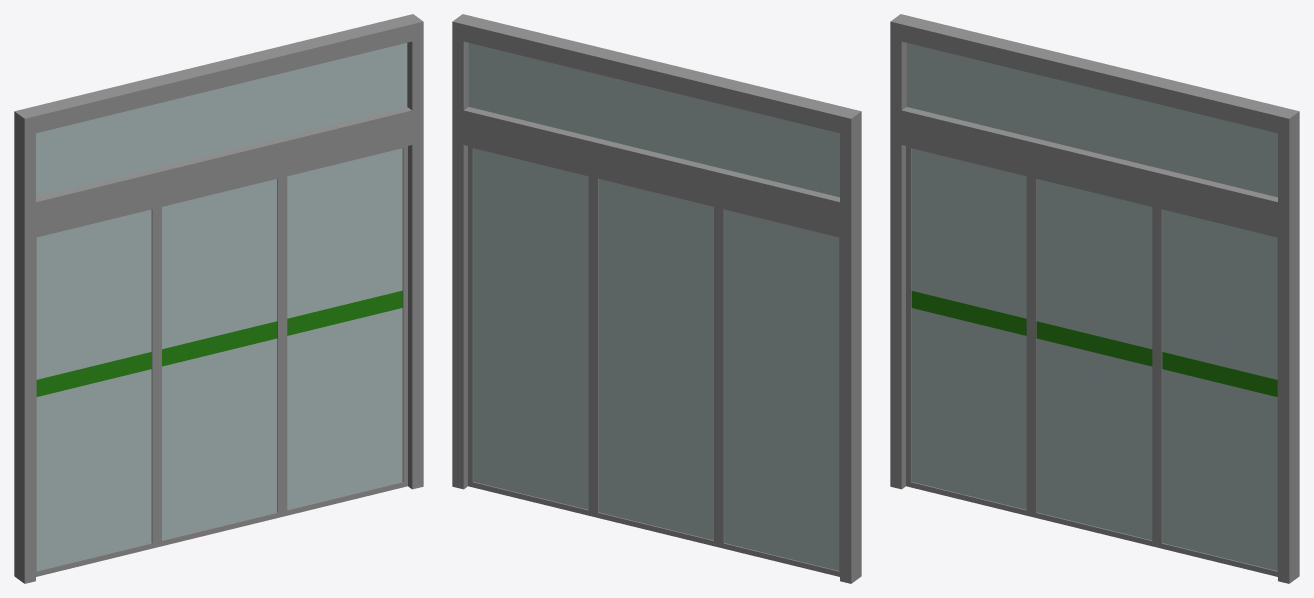
File: glass_window3.glb
The picture shows the model from 3 angles, left to right: view 1: azimuth 30°, elevation 25°; view 2: azimuth 150°, elevation 25°; view 3: azimuth 330°, elevation 25°; orthographic projection.
Parts seen in each view (by area): view 1: 1_SketchUp 2021; view 2: 1_SketchUp 2021; view 3: 1_SketchUp 2021.
Part boxes in pixels (box(x1,y1,x2,y2)): 1_SketchUp 2021: box(14, 14, 423, 583); 1_SketchUp 2021: box(452, 14, 861, 583); 1_SketchUp 2021: box(890, 14, 1299, 583).
Bounding box in the file's own units: 2.52 × 2.81 × 0.1134.
Materials: 4 (1 with a texture image).
